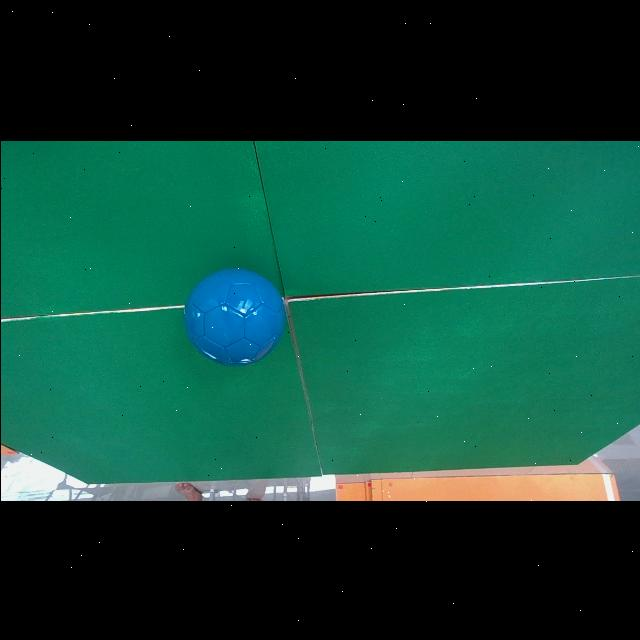B: (183, 268, 283, 365)
